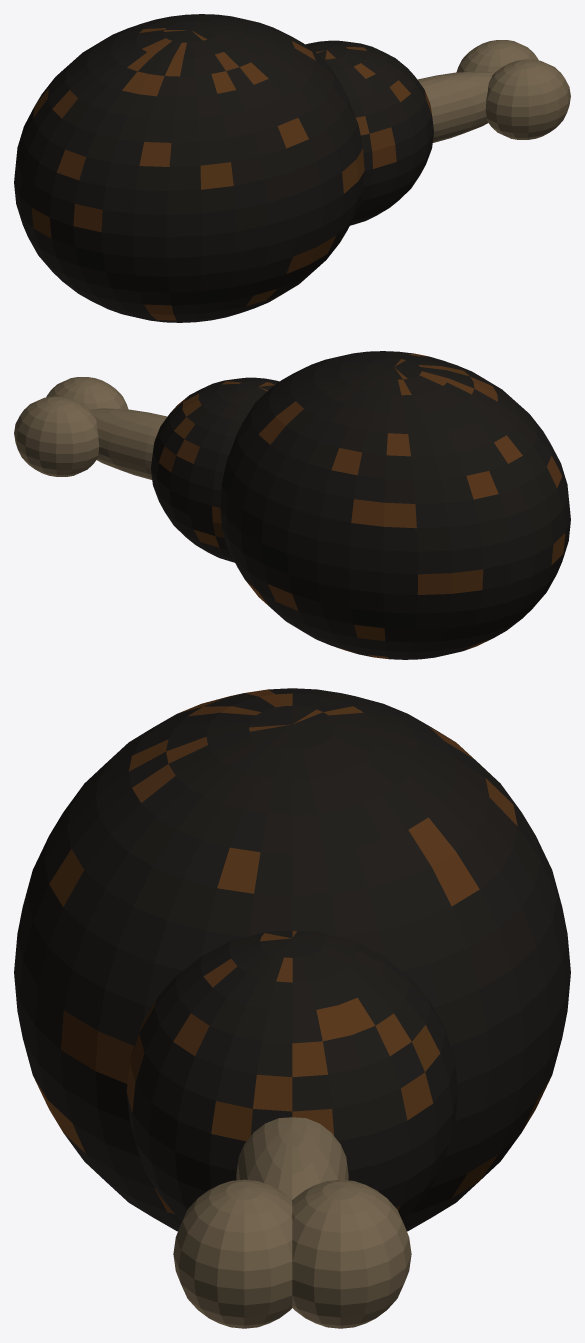
The model's file is SM_Meat_Burnt_A.fbx.
3 renders of one model, top to bottom at view 1: azimuth 30°, elevation 25°; view 2: azimuth 150°, elevation 25°; view 3: azimuth 270°, elevation 25°, orthographic. The views are drawn at different scales.
Visible parts, largest first — view 1: SM_Meat_Burnt_A; view 2: SM_Meat_Burnt_A; view 3: SM_Meat_Burnt_A.
Boxes of the visible parts, bbox=[...] form: SM_Meat_Burnt_A: bbox=[14, 14, 570, 322]; SM_Meat_Burnt_A: bbox=[14, 351, 570, 659]; SM_Meat_Burnt_A: bbox=[14, 688, 570, 1328].
Size of the model in its own units: 34.6 by 67.1 by 34.
